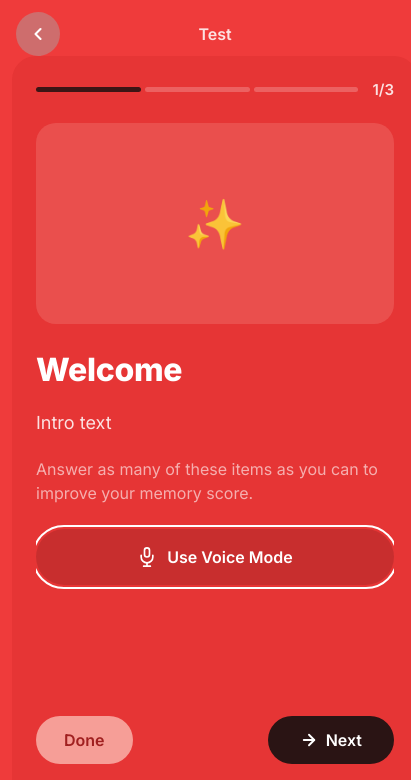
Test case: FlowEngine › goes back on back button click
The width and height of the screenshot is (411, 780).
Expected: the heading "Welcome" is shown, [36,350,182,389]
Click the button "Next" at point(331, 740), box [268,716,394,764]
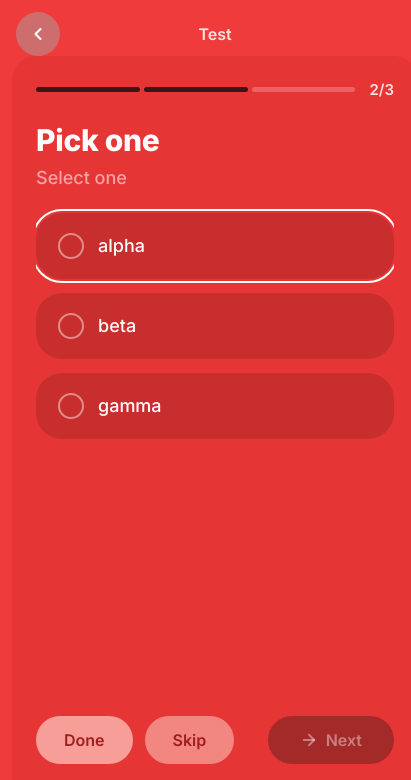
Expected: the heading "Pick one" is shown, [36,123,160,158]
Click the button named "Go back" at point(38, 34), box [16,12,60,56]
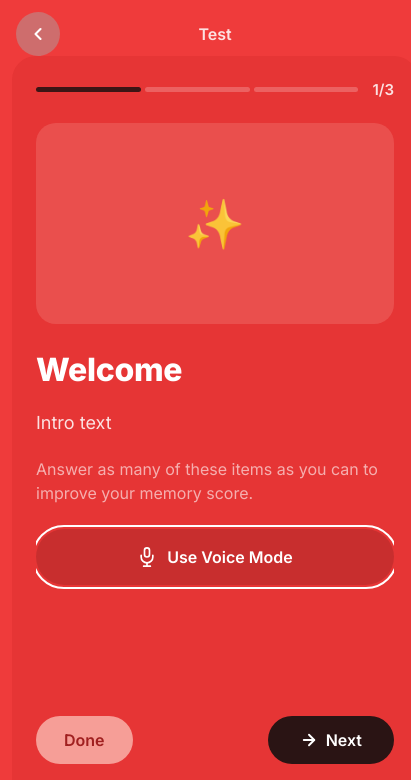
Expected: the heading "Welcome" is shown, [36,350,182,389]
